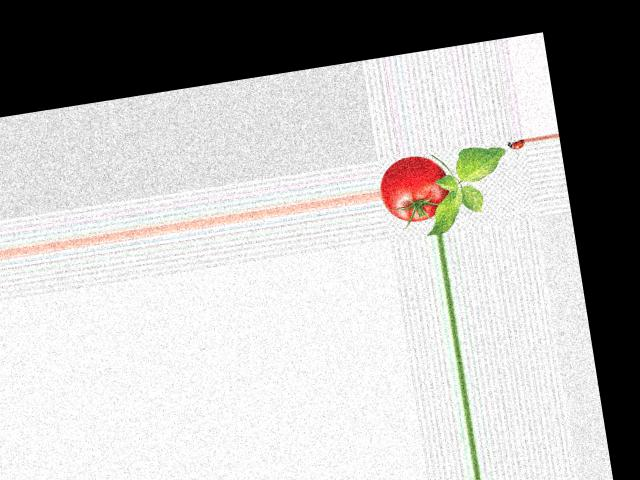tomato: (376, 151, 453, 226)
